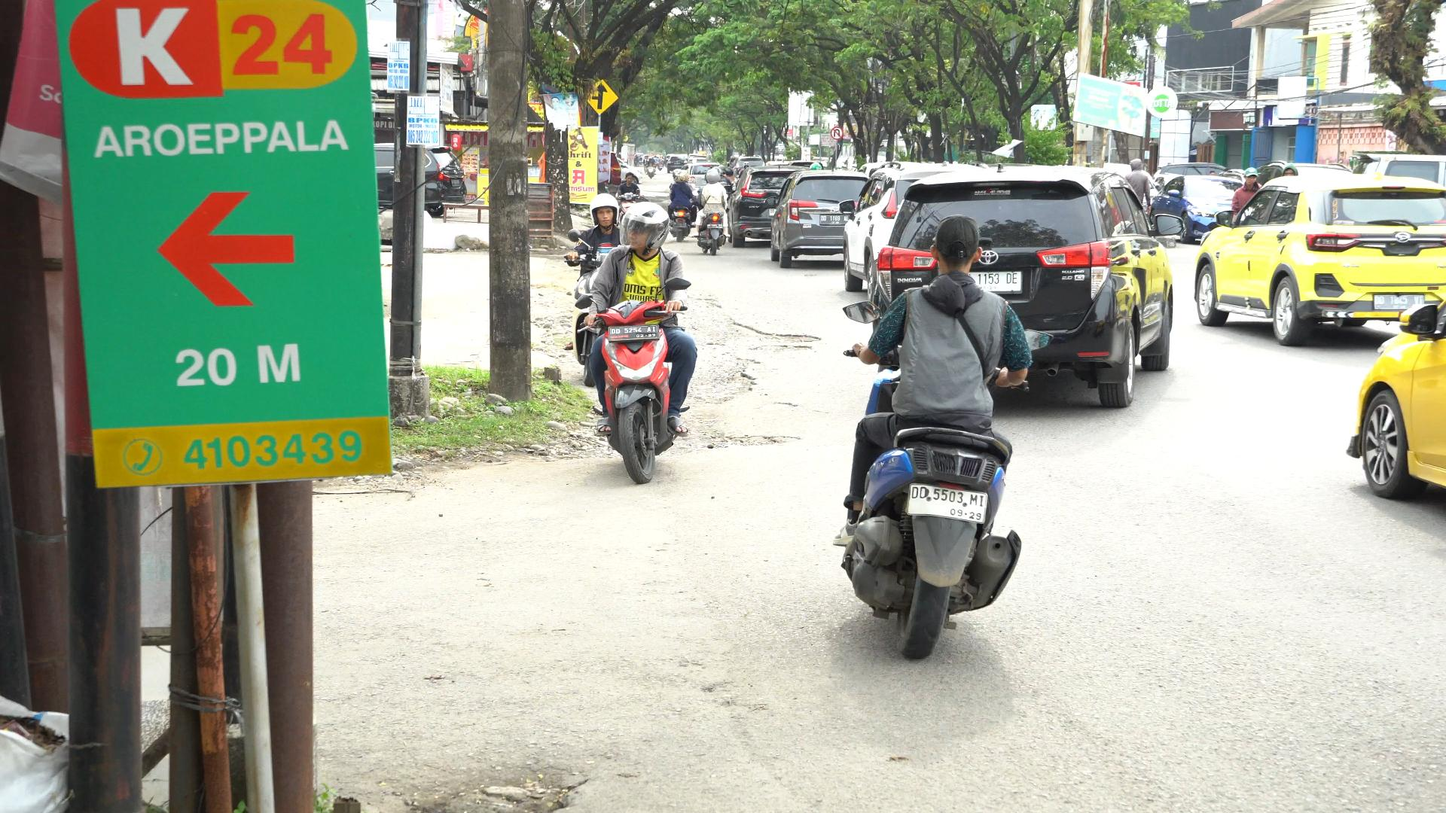number-plate: (605, 322, 661, 344)
